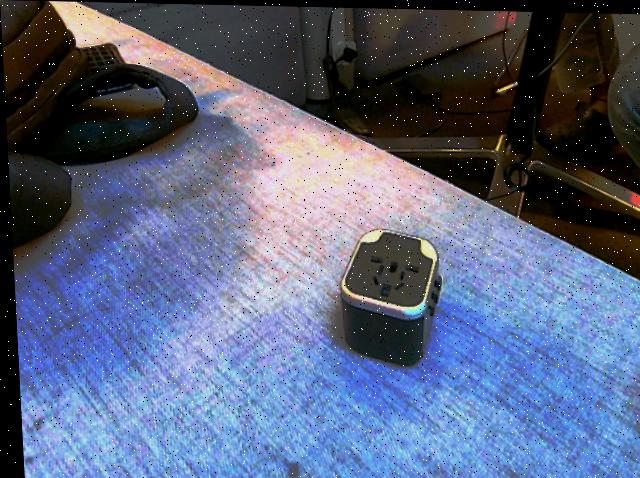adapter: (333, 226, 443, 365)
